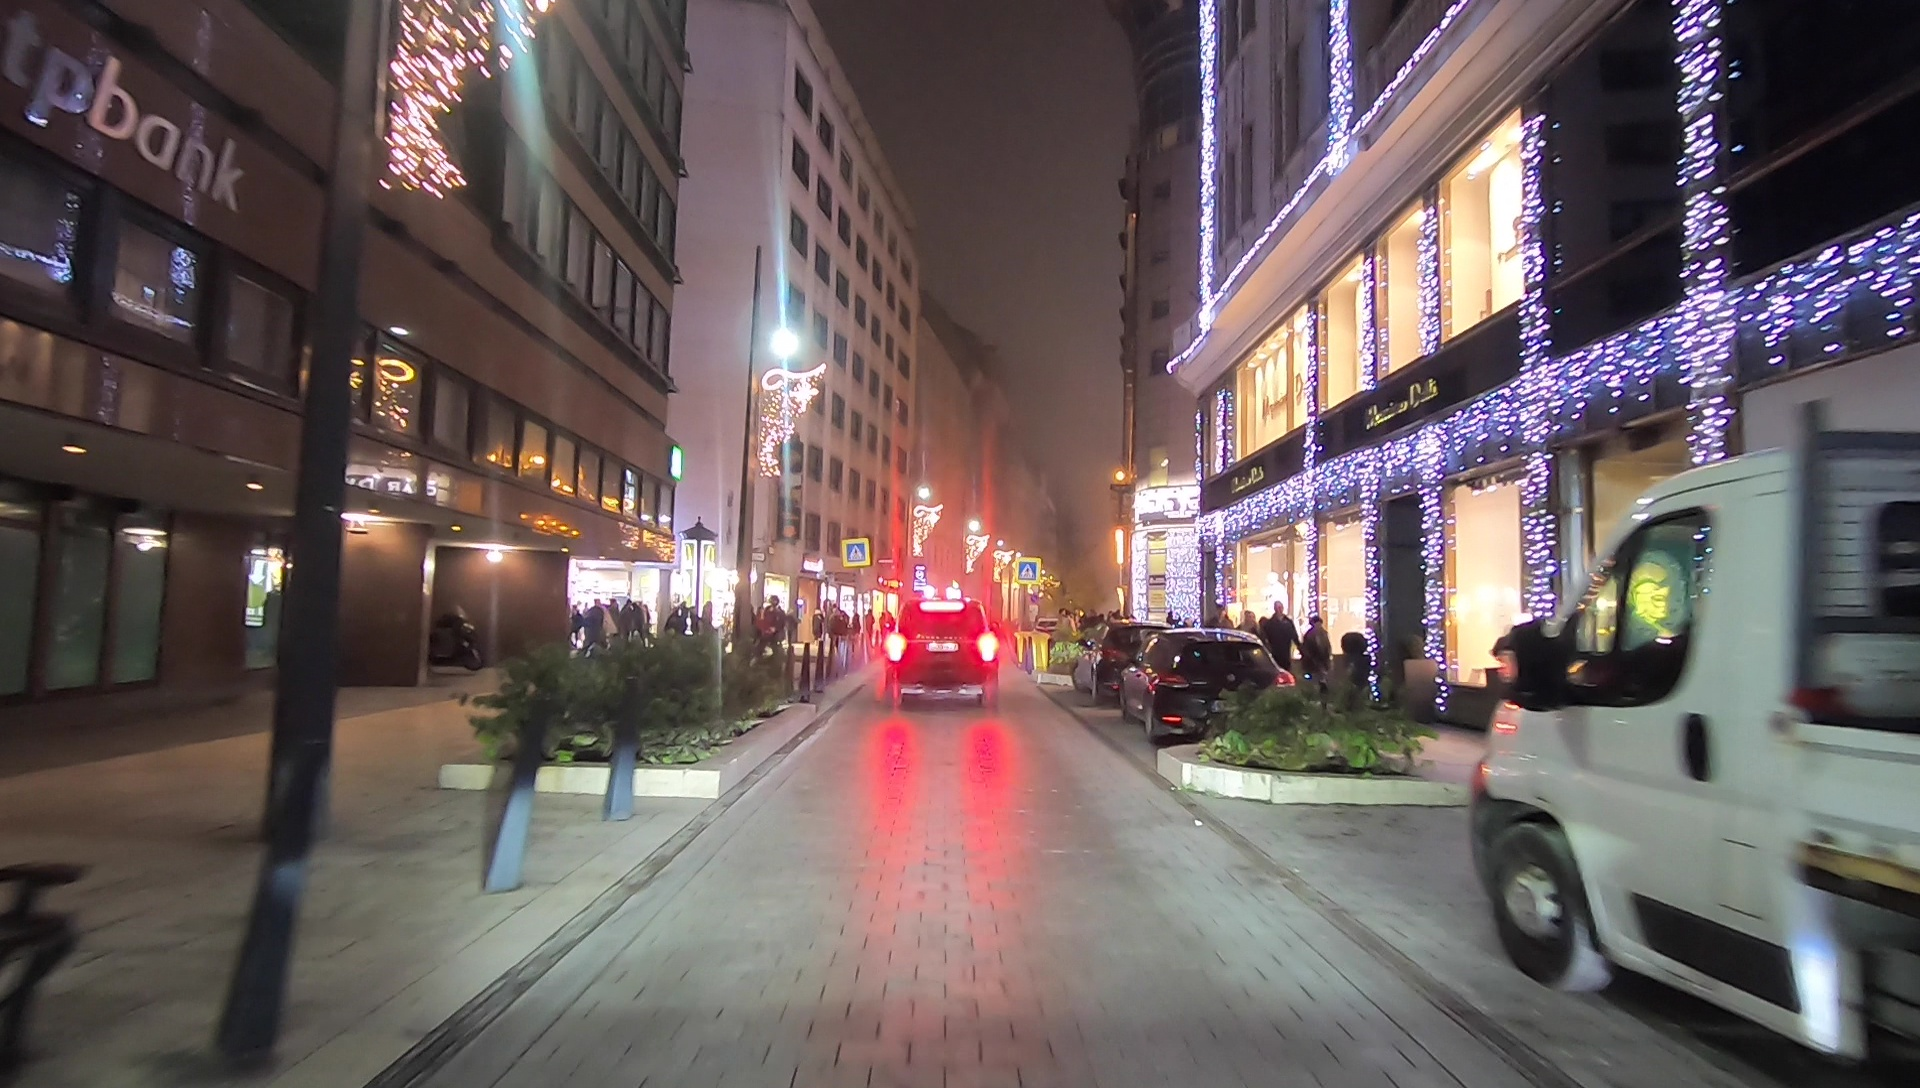person: (1267, 599, 1300, 701), (1301, 617, 1331, 716)
